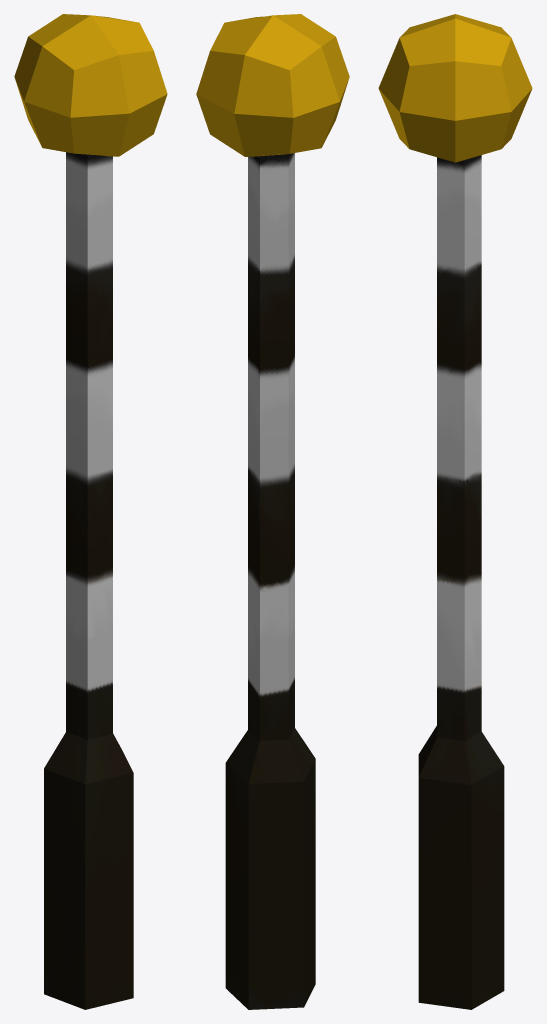
Rendered from CrossingLight.fbx.
The picture shows the model from 3 angles, left to right: view 1: azimuth 30°, elevation 25°; view 2: azimuth 150°, elevation 25°; view 3: azimuth 270°, elevation 25°; orthographic projection.
Parts seen in each view (by area): view 1: ZebraLight1; view 2: ZebraLight1; view 3: ZebraLight1.
Part boxes in pixels (x1,y1,x2,y2): ZebraLight1: [14, 14, 167, 1009]; ZebraLight1: [196, 14, 349, 1009]; ZebraLight1: [378, 14, 532, 1009].
Size of the model in its own units: 125 by 868 by 125.
